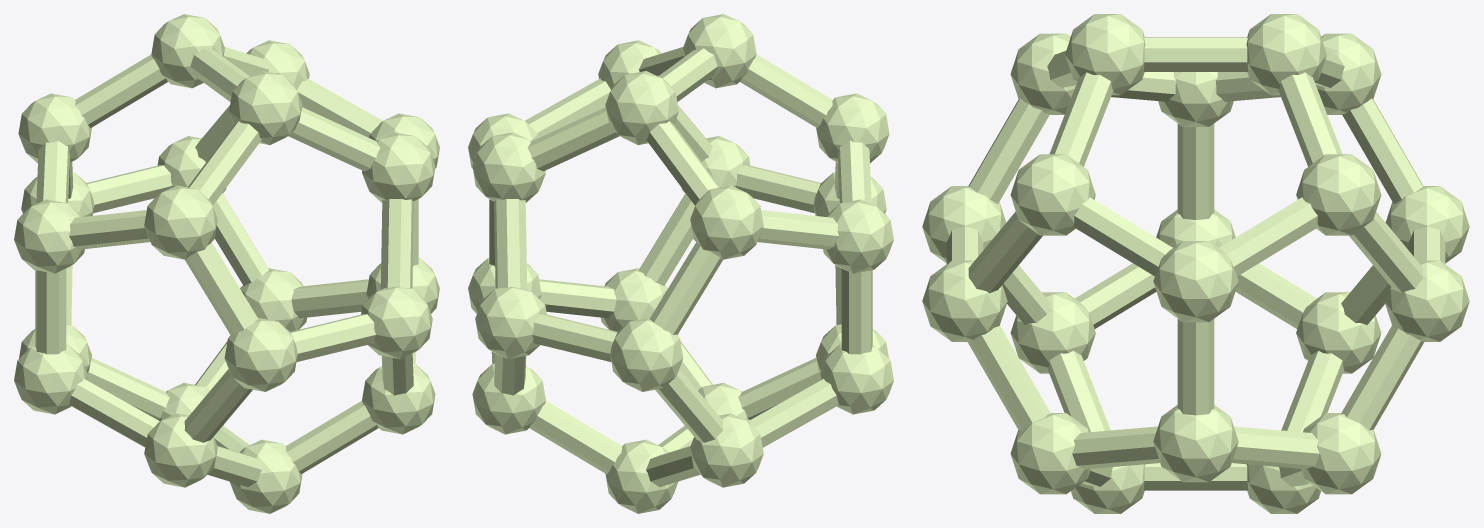
File: decahedron.glb
The picture shows the model from 3 angles, left to right: view 1: azimuth 30°, elevation 25°; view 2: azimuth 150°, elevation 25°; view 3: azimuth 270°, elevation 25°; orthographic projection. The views are drawn at different scales.
Visible parts, largest first — view 1: Vertex_1, Vertex_12, Vertex_9, Vertex_14, Vertex_5, Vertex_17, Vertex_0, Vertex_16, Vertex_3, Vertex_11, Vertex_8, Vertex_4 (+32 smaller); view 2: Vertex_3, Vertex_13, Vertex_11, Vertex_15, Vertex_7, Vertex_17, Vertex_2, Vertex_16, Vertex_1, Vertex_9, Vertex_10, Vertex_6 (+32 smaller); view 3: Vertex_19, Vertex_5, Vertex_7, Vertex_18, Vertex_9, Vertex_11, Vertex_4, Vertex_6, Vertex_14, Vertex_15, Vertex_0, Vertex_2 (+36 smaller).
Part boxes in pixels (x1=…): Vertex_1: x1=144, y1=185, x2=217, y2=259; Vertex_12: x1=224, y1=318, x2=297, y2=391; Vertex_9: x1=229, y1=71, x2=302, y2=145; Vertex_14: x1=361, y1=286, x2=432, y2=358; Vertex_5: x1=362, y1=132, x2=435, y2=202; Vertex_17: x1=14, y1=199, x2=84, y2=273; Vertex_0: x1=144, y1=413, x2=217, y2=487; Vertex_16: x1=14, y1=344, x2=87, y2=414; Vertex_3: x1=18, y1=93, x2=91, y2=163; Vertex_11: x1=151, y1=14, x2=224, y2=88; Vertex_8: x1=230, y1=439, x2=302, y2=513; Vertex_4: x1=362, y1=363, x2=435, y2=434; Vertex_3: x1=690, y1=185, x2=763, y2=259; Vertex_13: x1=610, y1=318, x2=683, y2=391; Vertex_11: x1=605, y1=71, x2=678, y2=145; Vertex_15: x1=475, y1=286, x2=546, y2=358; Vertex_7: x1=472, y1=132, x2=545, y2=202; Vertex_17: x1=823, y1=199, x2=893, y2=273; Vertex_2: x1=690, y1=413, x2=763, y2=487; Vertex_16: x1=820, y1=344, x2=893, y2=414; Vertex_1: x1=816, y1=93, x2=889, y2=163; Vertex_9: x1=683, y1=14, x2=756, y2=88; Vertex_10: x1=605, y1=439, x2=677, y2=513; Vertex_6: x1=472, y1=363, x2=545, y2=434; Vertex_19: x1=1153, y1=241, x2=1238, y2=322; Vertex_5: x1=1010, y1=154, x2=1095, y2=235; Vertex_7: x1=1296, y1=154, x2=1381, y2=235; Vertex_18: x1=1153, y1=405, x2=1238, y2=482; Vertex_9: x1=1065, y1=14, x2=1145, y2=95; Vertex_11: x1=1246, y1=14, x2=1326, y2=95; Vertex_4: x1=1010, y1=413, x2=1090, y2=494; Vertex_6: x1=1301, y1=413, x2=1381, y2=494; Vertex_14: x1=922, y1=260, x2=1007, y2=341; Vertex_15: x1=1384, y1=260, x2=1469, y2=341; Vertex_0: x1=1010, y1=292, x2=1095, y2=373; Vertex_2: x1=1296, y1=292, x2=1381, y2=373.
Bounding box in the file's own units: 12.71 × 12.81 × 12.81.
